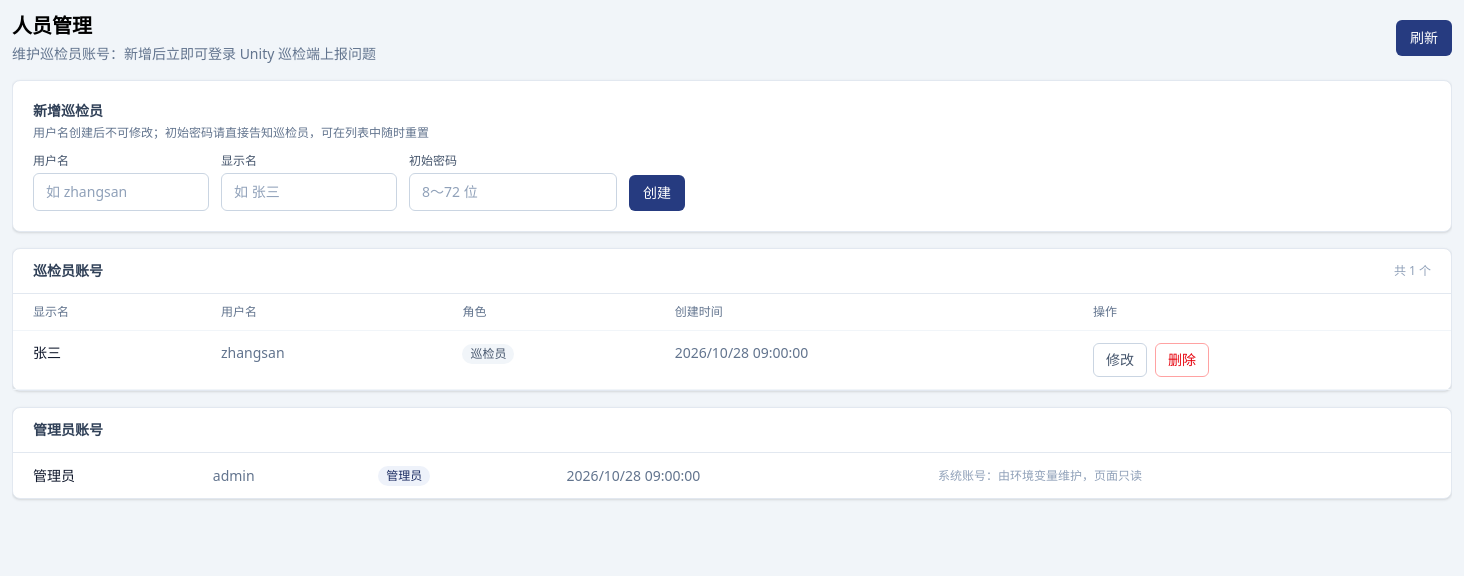
Test: 删除巡检员 › 删除失败回到初始态并显示错误
The width and height of the screenshot is (1464, 576).
Expected: the text "zhangsan" is shown, [205, 330, 446, 390]
Click the button "删除": (1182, 360) [1155, 343, 1209, 377]
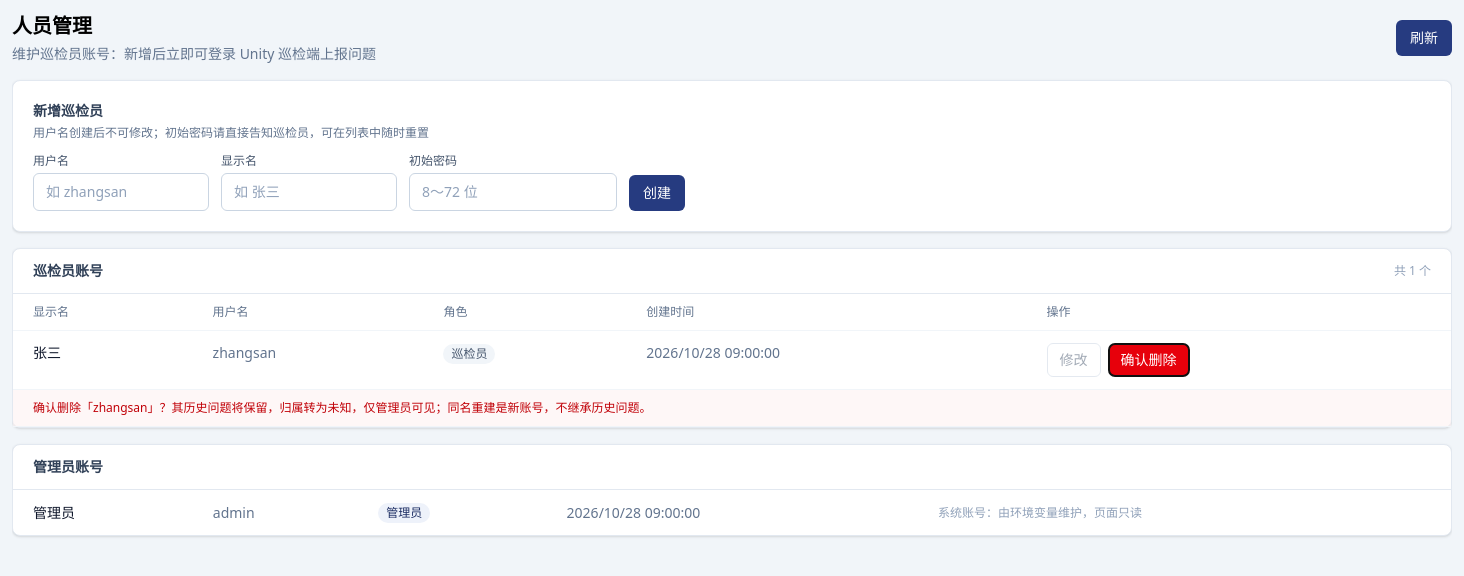
Click the button "确认删除": (1148, 360) [1108, 344, 1188, 376]
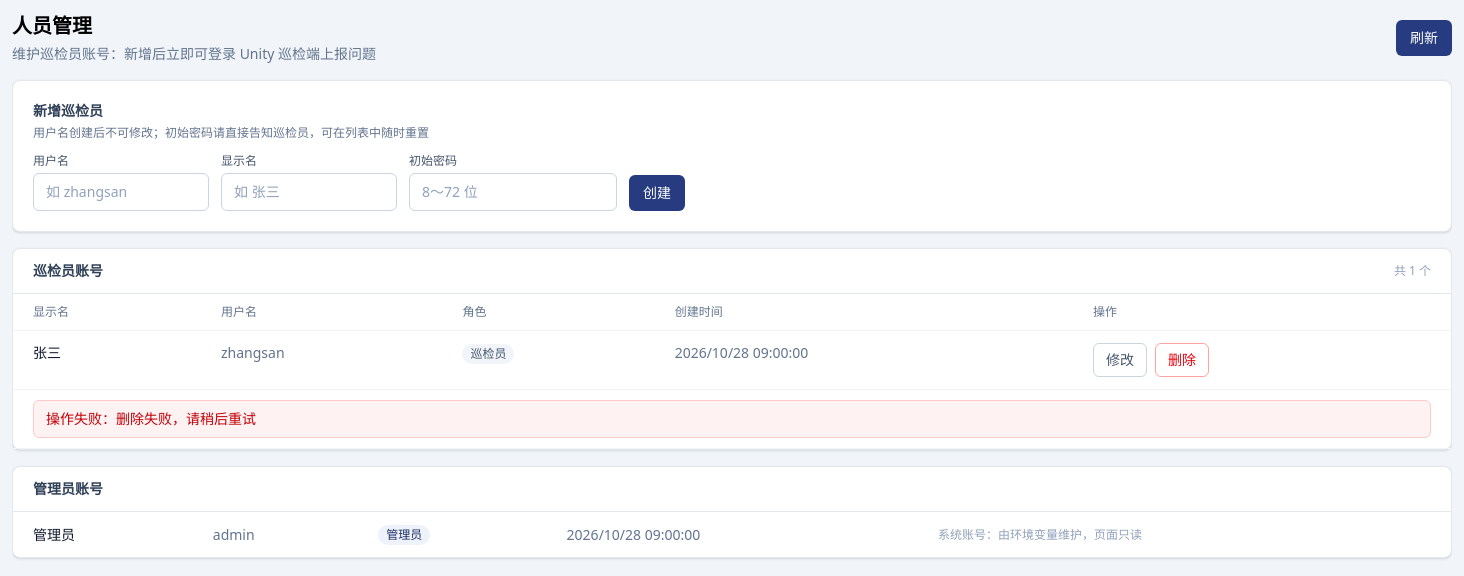
Expected: the button "删除" is shown, [1155, 343, 1209, 377]
Expected: the text "操作失败：删除失败，请稍后重试" is shown, [33, 400, 1431, 438]
